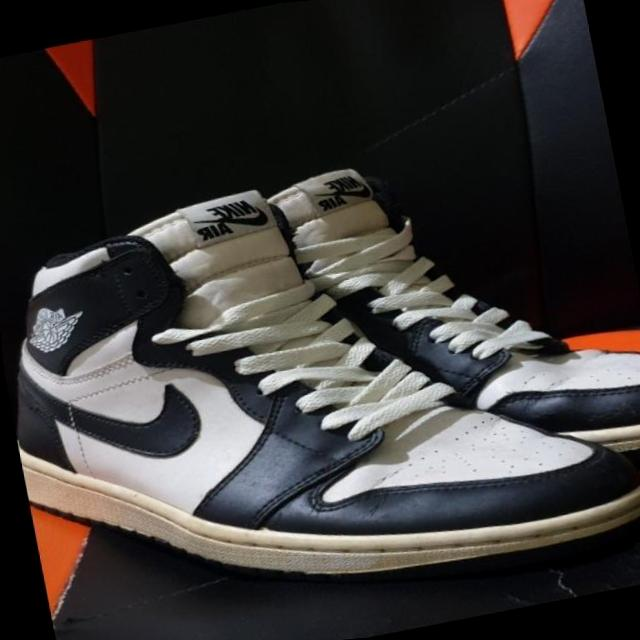nike_fake_jordan: (0, 122, 640, 640), (207, 115, 640, 521)
